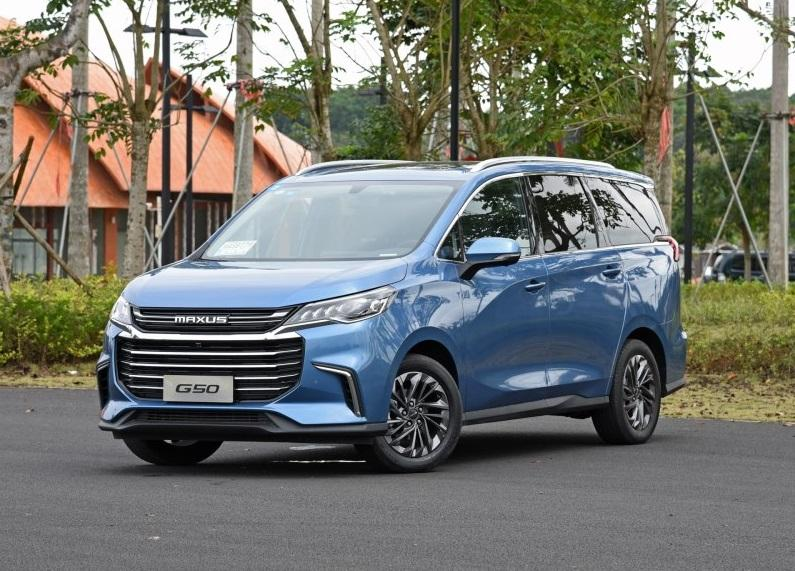car: (95, 149, 693, 481)
